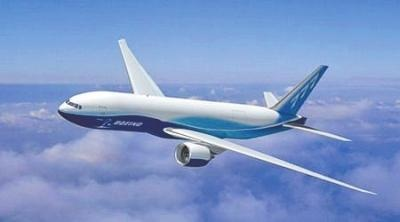airplane: (59, 38, 387, 200)
